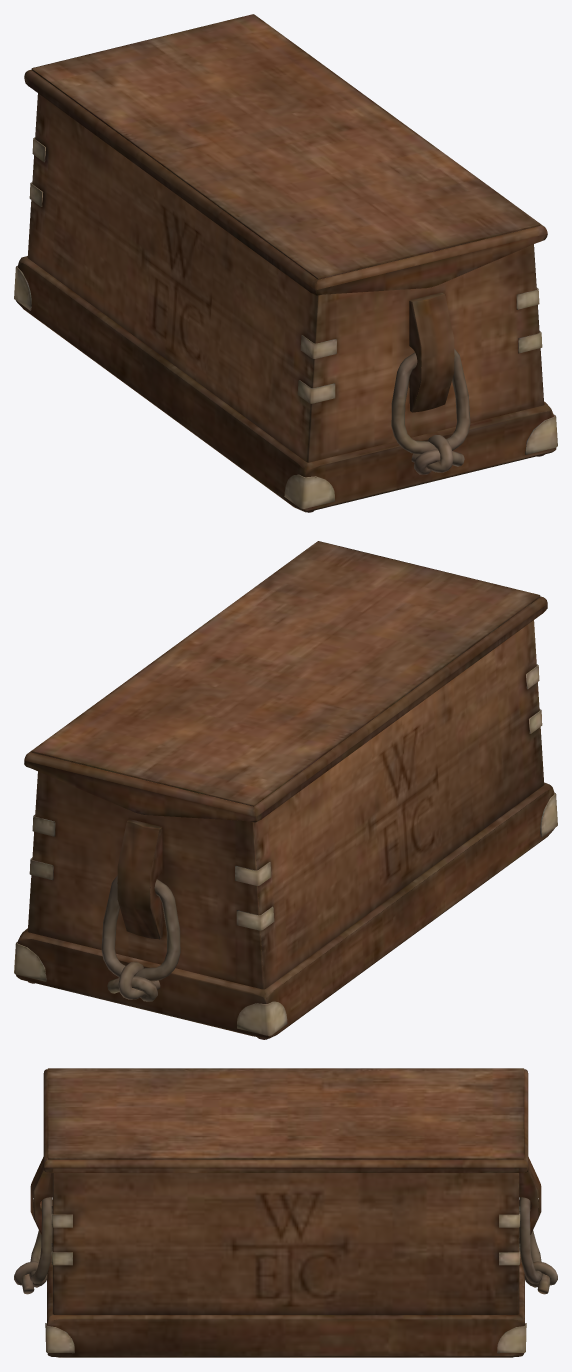
File: crate_wood_long.glb
3 views of the same model, one above another, from view 1: azimuth 30°, elevation 25°; view 2: azimuth 150°, elevation 25°; view 3: azimuth 270°, elevation 25° (orthographic). The views are drawn at different scales.
Visible parts, largest first — view 1: crate_wood_long; view 2: crate_wood_long; view 3: crate_wood_long.
Boxes of the visible parts, x1,y1,x2,y2 form: crate_wood_long: (14,14,557,512); crate_wood_long: (14,541,557,1039); crate_wood_long: (14,1068,557,1357).
Size of the model in its own units: 0.5291 by 0.464 by 1.17.
1 material, 1 textured.
